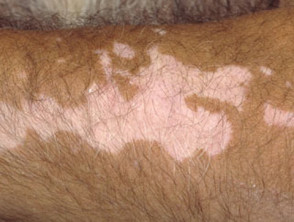vitiligo: (3, 38, 265, 182)
